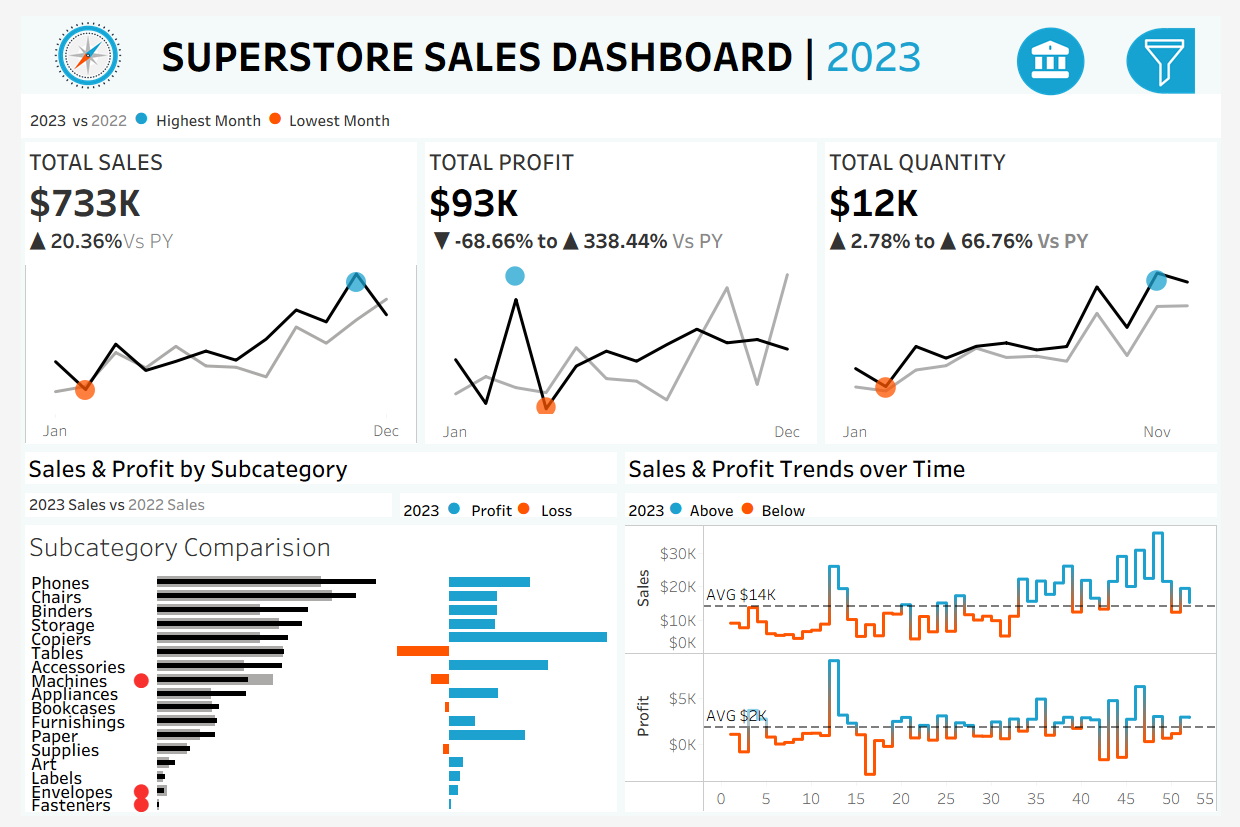

The page's visual inventory and layout, read from the dashboard file:
{"tool":"tableau","page":{"name":"Sales Dashboard","canvas":[1200,800],"ordinal":0},"visuals":[{"type":"image","param":"D:/DATA ANALYTICS/TABLEAU/Projects/Project -1 - Superstore Sales Dataset/Icon - ","box":[0,0,133,78]},{"type":"text","box":[133,0,851,78]},{"type":"blank","box":[982,1,213,93]},{"type":"dashboard-object","box":[976,6,108,78]},{"type":"dashboard-object","box":[1084,6,108,78]},{"type":"worksheet","title":"Legend KPI","mark":"Automatic","box":[0,78,1200,44]},{"type":"text","box":[982,94,213,74]},{"type":"worksheet","title":"KPI Sales","mark":"Automatic","rows":["Calculation_0568229613285379"],"cols":["Order Date"],"box":[0,122,400,310]},{"type":"worksheet","title":"KPI Profit","mark":"Automatic","rows":["Calculation_0568229613506564"],"cols":["Order Date"],"box":[400,122,400,310]},{"type":"worksheet","title":"KPI Quantity","mark":"Automatic","rows":["Calculation_0568229617577989"],"cols":["Order Date"],"box":[800,122,400,310]},{"type":"parameter","param":"[Parameters].[Parameter 0117978941714443]","box":[982,168,213,56]},{"type":"blank","box":[982,224,213,53]},{"type":"text","box":[982,277,213,33]},{"type":"filter","title":"KPI Sales","param":"[federated.12dxgjp115losm15bkvmv1xffjwf].[none:Category:nk]","box":[982,310,213,61]},{"type":"filter","title":"KPI Sales","param":"[federated.12dxgjp115losm15bkvmv1xffjwf].[none:Sub-Category:nk]","box":[982,371,213,61]},{"type":"text","box":[0,432,600,40]},{"type":"text","box":[600,432,600,40]},{"type":"blank","box":[982,432,213,71]},{"type":"worksheet","title":"Legend Subcategory","mark":"Automatic","box":[0,472.6,375,32]},{"type":"text","box":[375,472.6,225,32]},{"type":"text","box":[600,472.6,600,32.5]},{"type":"text","box":[982,503,213,33]},{"type":"worksheet","title":"Subcategory Comparision","mark":"Bar","rows":["Sub-Category","Calculation_0568229610729472"],"cols":["Calculation_1035796620095493","Calculation_1035796617646080","Calculation_1035796617912321"],"box":[0,504.6,600,295.3]},{"type":"worksheet","title":"Weekly Trends","mark":"Automatic","rows":["Calculation_1035796617646080","Calculation_1035796617912321"],"cols":["Order Date"],"box":[600,505.2,600,294.8]},{"type":"filter","title":"KPI Sales","param":"[federated.12dxgjp115losm15bkvmv1xffjwf].[none:Region:nk]","box":[982,536,213,61]},{"type":"filter","title":"KPI Sales","param":"[federated.12dxgjp115losm15bkvmv1xffjwf].[none:State:nk]","box":[982,597,213,61]},{"type":"filter","title":"KPI Sales","param":"[federated.12dxgjp115losm15bkvmv1xffjwf].[none:City:nk]","box":[982,658,213,61]}]}

Visuals, with their boxes in screenshot pixels (x1, y1, x2, y2), scaled from the page's 1200x800 canvas onto the 1240x827 screenshot:
image: crop(0, 0, 137, 81)
text: crop(137, 0, 1017, 81)
blank: crop(1015, 1, 1235, 97)
dashboard-object: crop(1009, 6, 1120, 87)
dashboard-object: crop(1120, 6, 1232, 87)
"Legend KPI" worksheet: crop(0, 81, 1239, 126)
text: crop(1015, 97, 1235, 174)
"KPI Sales" worksheet: crop(0, 126, 413, 447)
"KPI Profit" worksheet: crop(413, 126, 827, 447)
"KPI Quantity" worksheet: crop(827, 126, 1239, 447)
parameter: crop(1015, 174, 1235, 232)
blank: crop(1015, 232, 1235, 286)
text: crop(1015, 286, 1235, 320)
"KPI Sales" filter: crop(1015, 320, 1235, 384)
"KPI Sales" filter: crop(1015, 384, 1235, 447)
text: crop(0, 447, 620, 488)
text: crop(620, 447, 1239, 488)
blank: crop(1015, 447, 1235, 520)
"Legend Subcategory" worksheet: crop(0, 489, 388, 522)
text: crop(388, 489, 620, 522)
text: crop(620, 489, 1239, 522)
text: crop(1015, 520, 1235, 554)
"Subcategory Comparision" worksheet (Bar marks): crop(0, 522, 620, 826)
"Weekly Trends" worksheet: crop(620, 522, 1239, 826)
"KPI Sales" filter: crop(1015, 554, 1235, 617)
"KPI Sales" filter: crop(1015, 617, 1235, 680)
"KPI Sales" filter: crop(1015, 680, 1235, 743)
